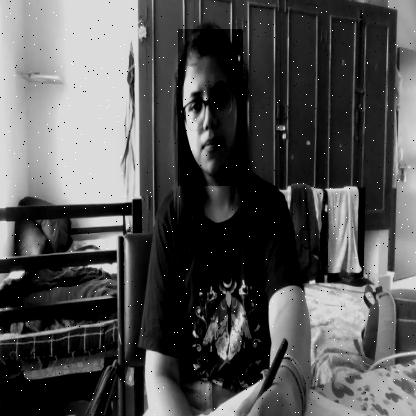Normal: (178, 29, 243, 186)
